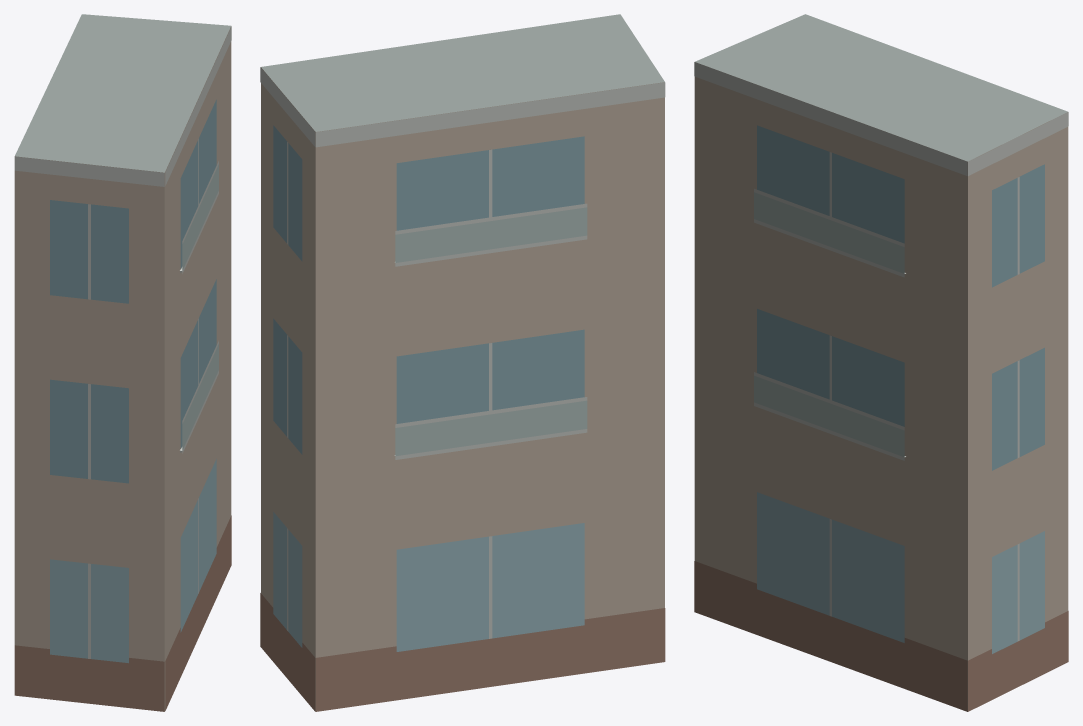
File: survey-upis-33043934.glb
3 renders of one model, left to right at view 1: azimuth 30°, elevation 25°; view 2: azimuth 150°, elevation 25°; view 3: azimuth 270°, elevation 25°, orthographic. The views are drawn at different scales.
Visible parts, largest first — view 1: survey-upis-33043934.tmp; view 2: survey-upis-33043934.tmp; view 3: survey-upis-33043934.tmp.
Part boxes in pixels (x1,y1,x2,y2): survey-upis-33043934.tmp: (14, 14, 231, 711); survey-upis-33043934.tmp: (260, 14, 665, 711); survey-upis-33043934.tmp: (694, 14, 1068, 711).
Size of the model in its own units: 5.27 by 9.15 by 5.64.
